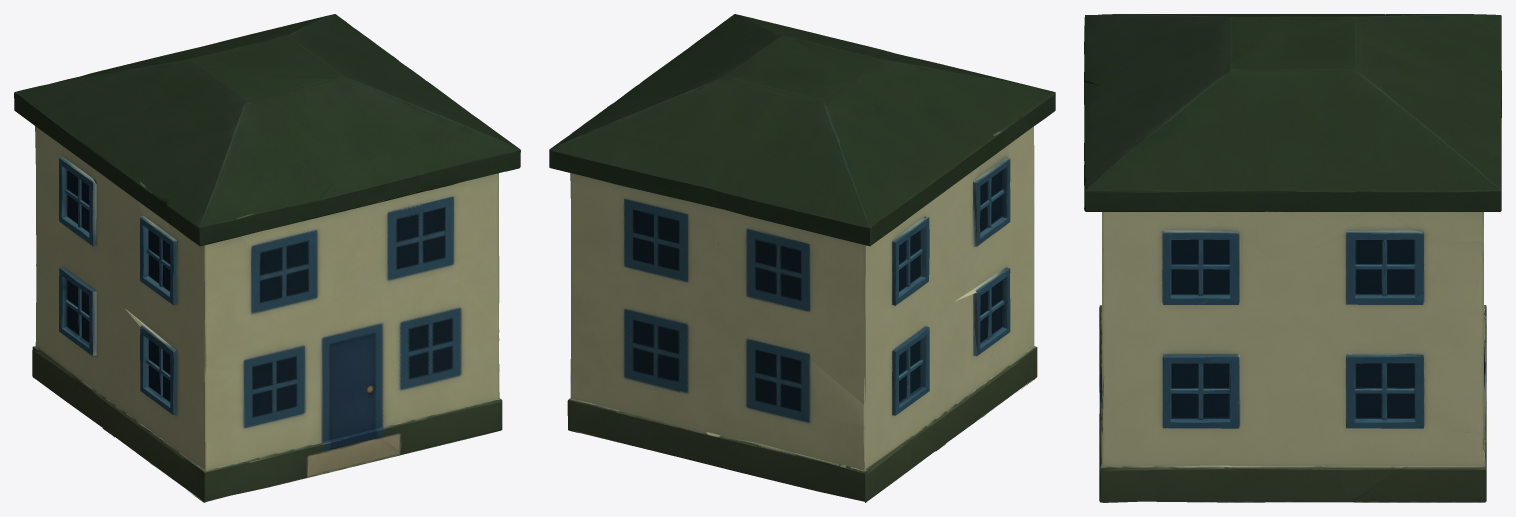
The model's file is simple-house-g.glb.
3 renders of one model, left to right at view 1: azimuth 30°, elevation 25°; view 2: azimuth 150°, elevation 25°; view 3: azimuth 270°, elevation 25°, orthographic. The views are drawn at different scales.
Size of the model in its own units: 1.9 by 1.9 by 1.9.
1 material, 1 textured.
